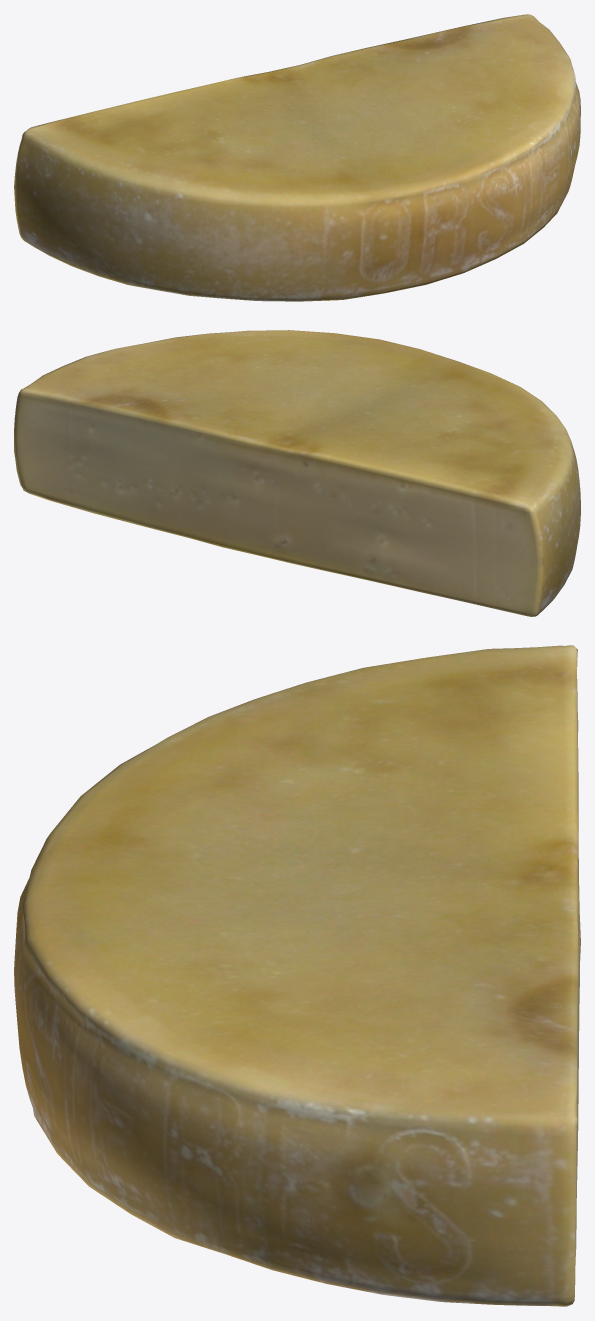
3 renders of one model, top to bottom at view 1: azimuth 30°, elevation 25°; view 2: azimuth 150°, elevation 25°; view 3: azimuth 270°, elevation 25°, orthographic. The views are drawn at different scales.
Visible parts, largest first — view 1: Half Cheese Wheel; view 2: Half Cheese Wheel; view 3: Half Cheese Wheel.
Part boxes in pixels (x1,y1,x2,y2): Half Cheese Wheel: [14, 14, 580, 301]; Half Cheese Wheel: [14, 330, 580, 616]; Half Cheese Wheel: [14, 645, 580, 1306].
Size of the model in its own units: 24.95 by 5.38 by 12.47.
Materials: 1 (1 with a texture image).
